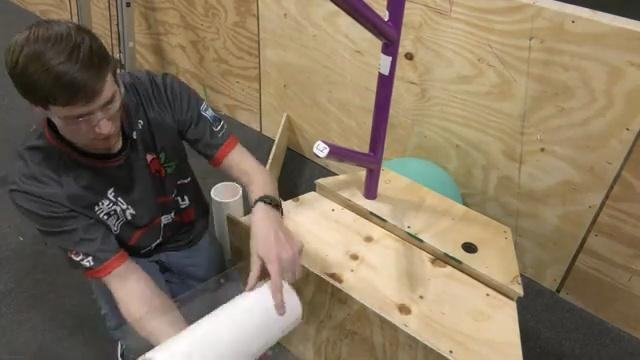CORAL: (135, 276, 304, 359), (211, 182, 245, 260)
